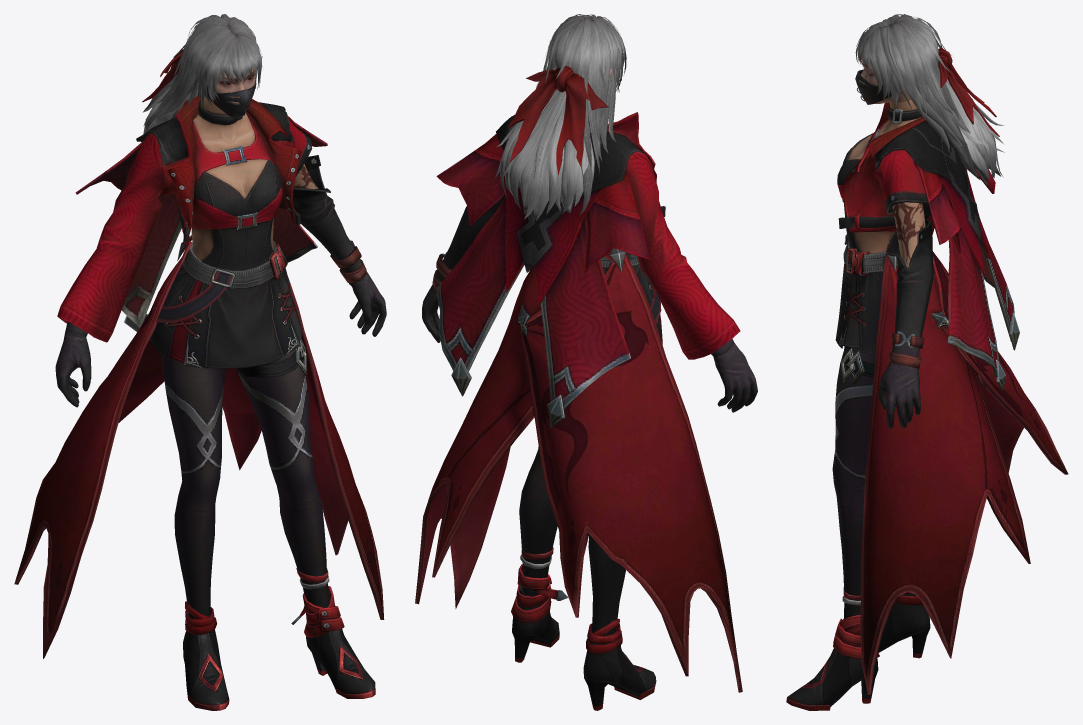
The model's file is blood_buster-free_fire.glb.
3 renders of one model, left to right at view 1: azimuth 30°, elevation 25°; view 2: azimuth 150°, elevation 25°; view 3: azimuth 270°, elevation 25°, orthographic. The views are drawn at different scales.
Parts seen in each view (by area): view 1: Object_8, Object_7, Object_9, Object_2, Object_3, Object_6, Object_4; view 2: Object_8, Object_7, Object_2, Object_9, Object_5; view 3: Object_8, Object_7, Object_2, Object_9, Object_3, Object_5, Object_6.
Part boxes in pixels (left/top/right/bottom): Object_8: left=14, top=235, right=384, bottom=658; Object_7: left=55, top=95, right=386, bottom=407; Object_9: left=183, top=586, right=375, bottom=710; Object_2: left=143, top=14, right=262, bottom=133; Object_3: left=191, top=92, right=318, bottom=260; Object_6: left=207, top=80, right=256, bottom=119; Object_4: left=197, top=50, right=256, bottom=105; Object_8: left=415, top=248, right=742, bottom=692; Object_7: left=422, top=112, right=757, bottom=427; Object_2: left=495, top=14, right=626, bottom=222; Object_9: left=511, top=564, right=656, bottom=710; Object_5: left=507, top=66, right=608, bottom=174; Object_8: left=832, top=234, right=1068, bottom=694; Object_7: left=837, top=102, right=1019, bottom=428; Object_2: left=855, top=14, right=1004, bottom=185; Object_9: left=786, top=592, right=930, bottom=710; Object_3: left=848, top=100, right=925, bottom=267; Object_5: left=938, top=47, right=999, bottom=136; Object_6: left=855, top=69, right=891, bottom=104.
Size of the model in its own units: 1.72 by 3.36 by 1.33.
Materials: 8 (8 with a texture image).
